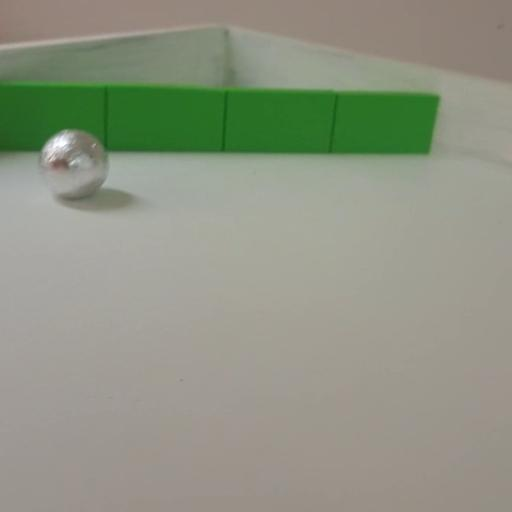alive: (38, 128, 110, 199)
